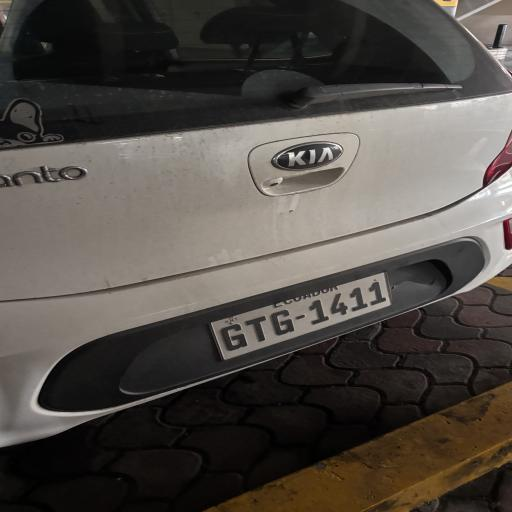license_plate: (211, 273, 391, 359)
